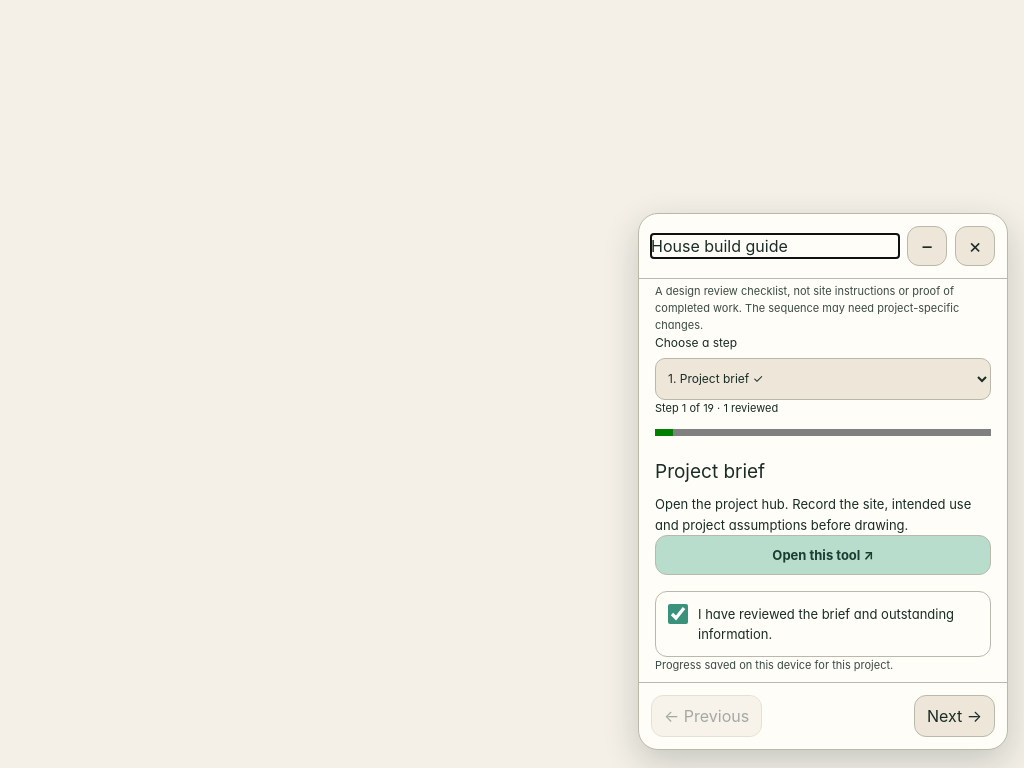
Test case: project-specific non-modal house guide › bounds corrupt progress and exposes storage failures without losing current session state
What coordinates should you click on to do the following:
click the button "Next →"
I would click on:
 (954, 716)
Its box is x1=914 y1=695 x2=995 y2=737.
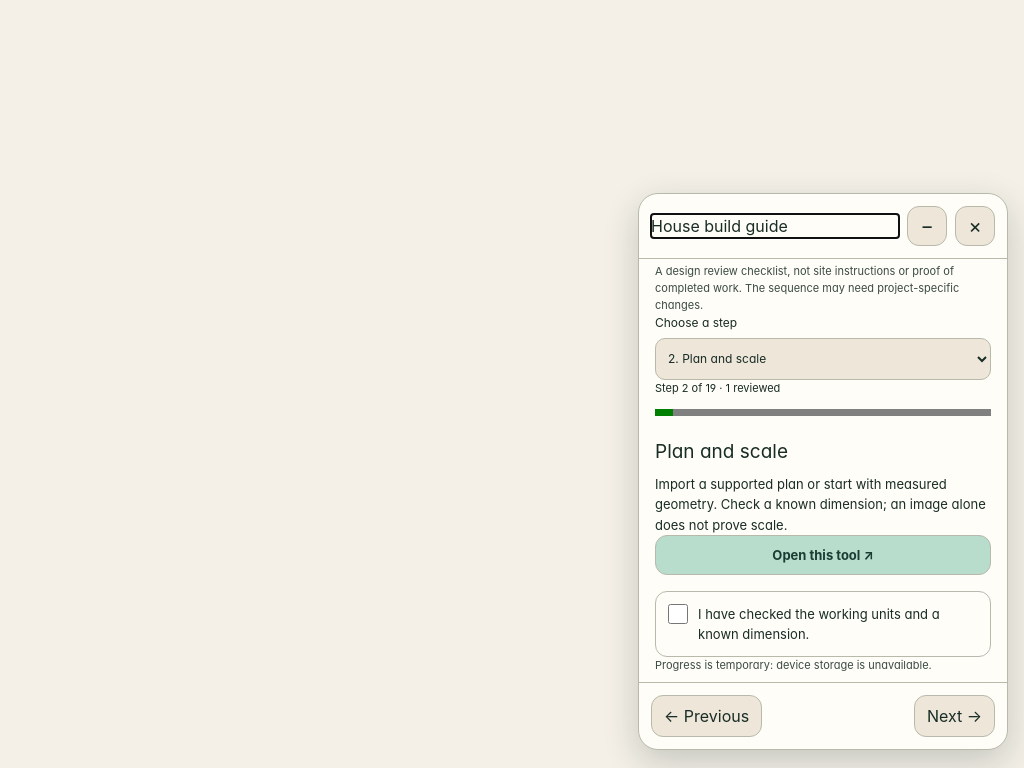
expect the heading "Plan and scale" is shown: met, box x1=655 y1=440 x2=788 y2=463
expect the text "Progress is temporary" is shown: met, box x1=655 y1=658 x2=932 y2=672
